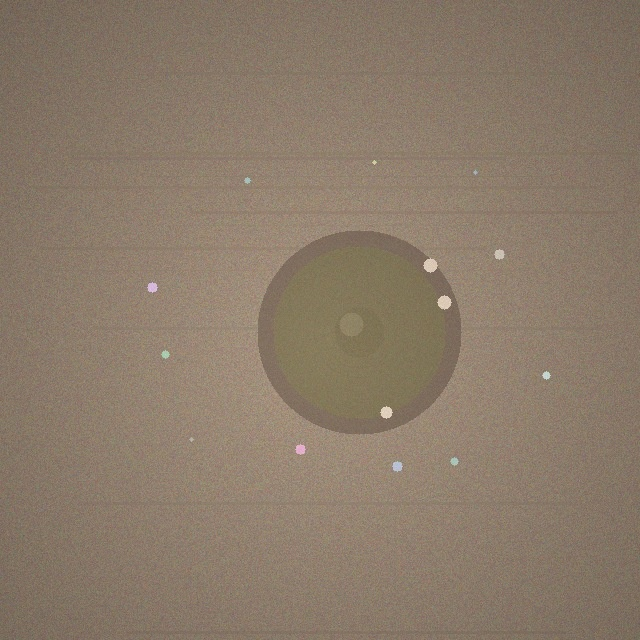overburn: (257, 230, 461, 434)
